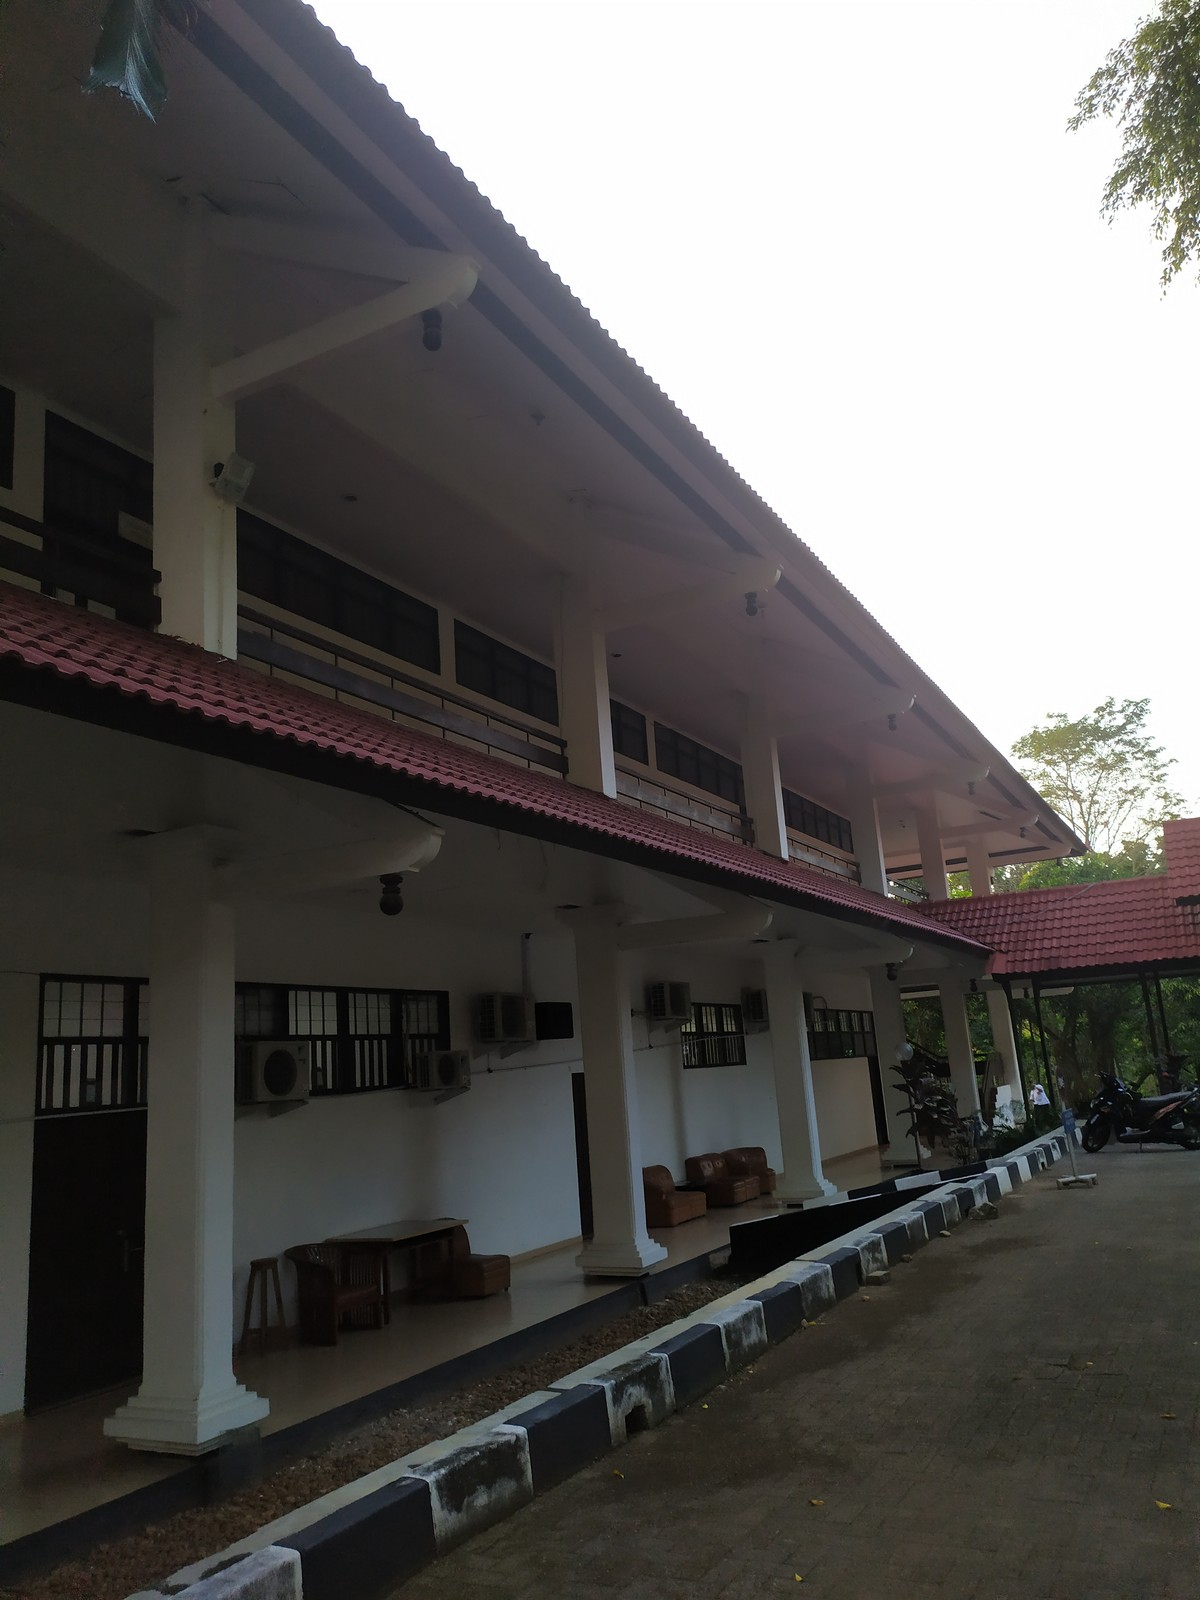concrete column: (132, 871, 242, 1393), (136, 191, 253, 661), (574, 913, 661, 1238), (551, 540, 626, 792), (766, 939, 832, 1193)
